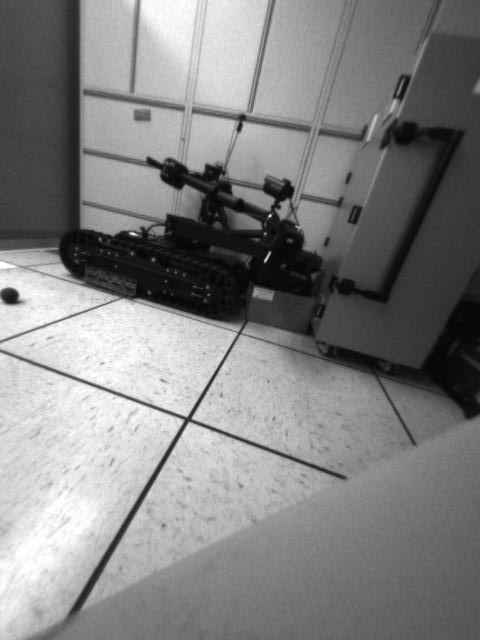dogtoy: (1, 277, 24, 309)
